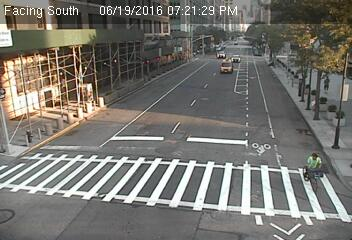neg: (298, 151, 329, 192), (188, 39, 217, 77), (290, 51, 294, 56)
pos: (317, 74, 333, 95)
